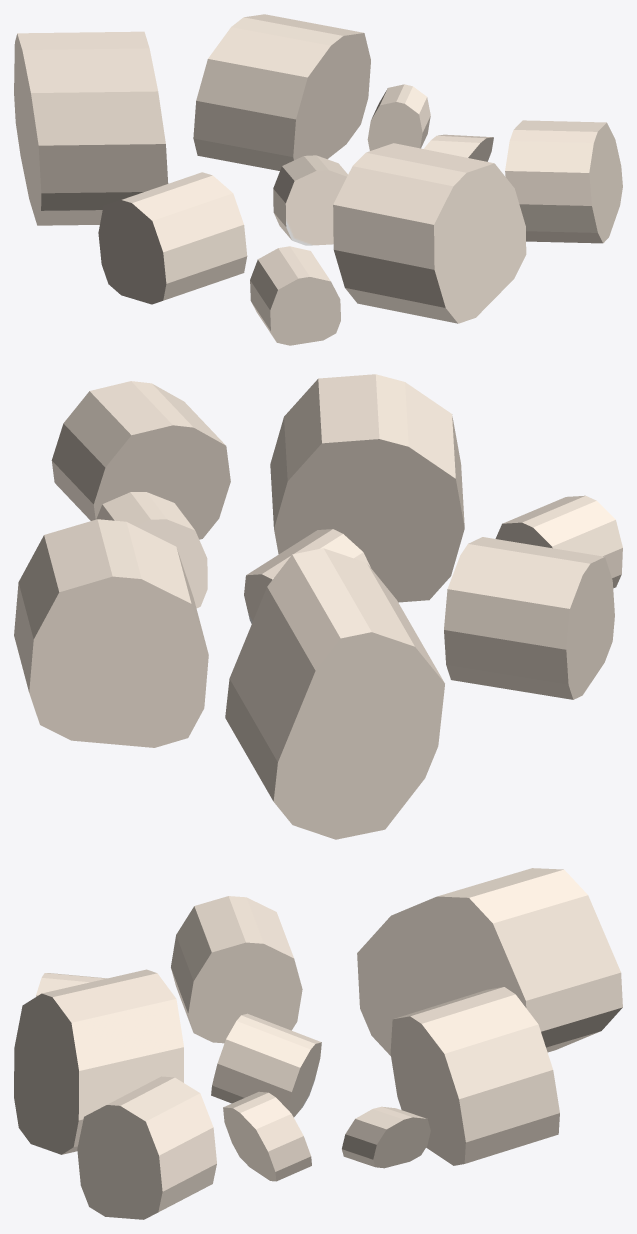
File: yuca picado.fbx
The picture shows the model from 3 angles, top to bottom: view 1: azimuth 30°, elevation 25°; view 2: azimuth 150°, elevation 25°; view 3: azimuth 270°, elevation 25°; orthographic projection. The views are drawn at different scales.
Parts seen in each view (by area): view 1: Cube.005; view 2: Cube.005; view 3: Cube.005.
Part boxes in pixels (bbox=[...]): Cube.005: bbox=[14, 14, 622, 345]; Cube.005: bbox=[14, 374, 622, 839]; Cube.005: bbox=[14, 868, 622, 1219].
Size of the model in its own units: 71.31 by 26.95 by 75.32.
Materials: 1 (1 with a texture image).
